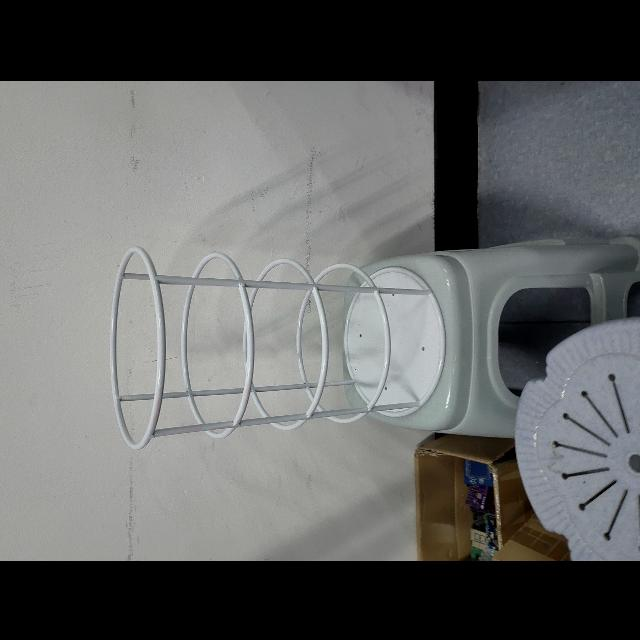S: (104, 241, 456, 453)
